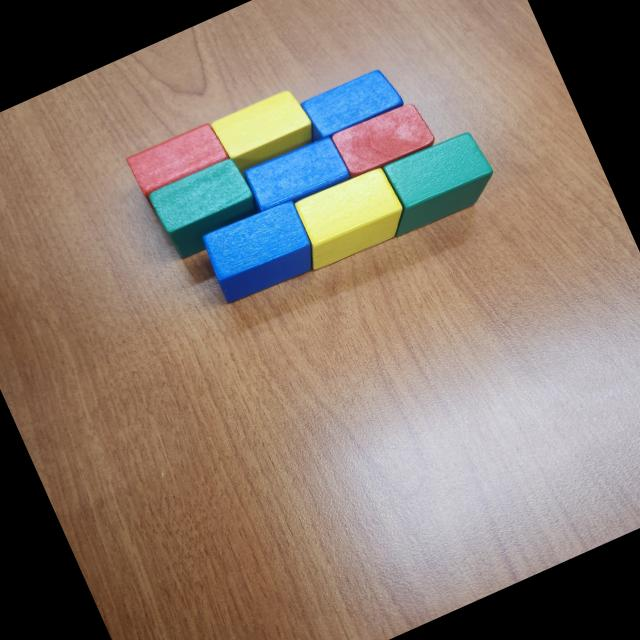blue: (196, 195, 322, 307), (238, 132, 352, 220), (294, 64, 406, 147)
green: (364, 126, 504, 242), (146, 154, 266, 262)
red: (126, 119, 242, 218), (329, 98, 438, 182)
yellow: (284, 162, 414, 274), (208, 85, 320, 178)
